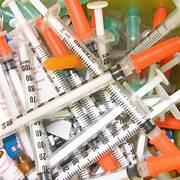Syringe: (0, 73, 113, 137), (31, 0, 102, 75), (57, 123, 138, 179), (119, 0, 179, 66), (46, 14, 102, 74), (3, 1, 48, 62), (90, 151, 179, 179), (13, 24, 37, 109), (64, 0, 97, 56), (0, 35, 24, 106), (87, 1, 109, 66), (36, 19, 67, 55)
